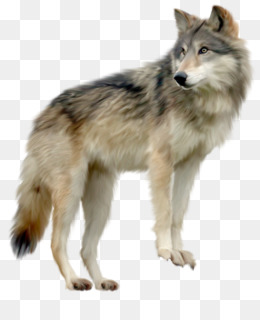Lobo: (9, 4, 250, 290)
